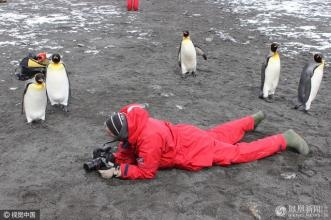falling: (83, 94, 310, 178)
